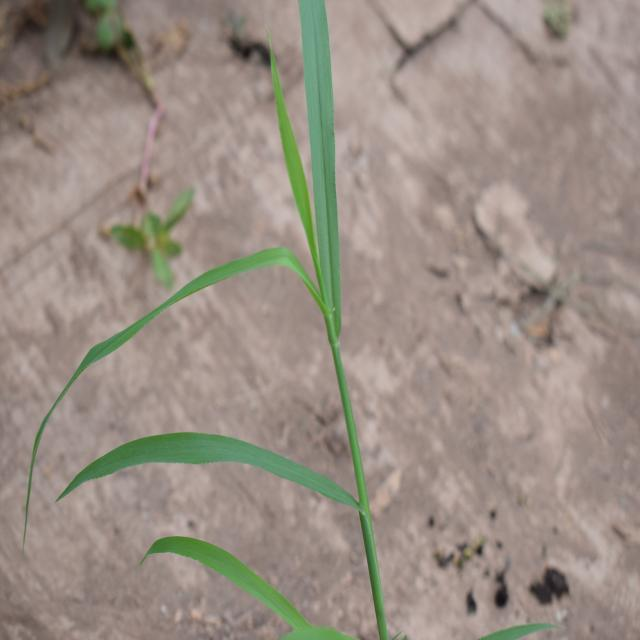crabgrass: (79, 14, 411, 591)
